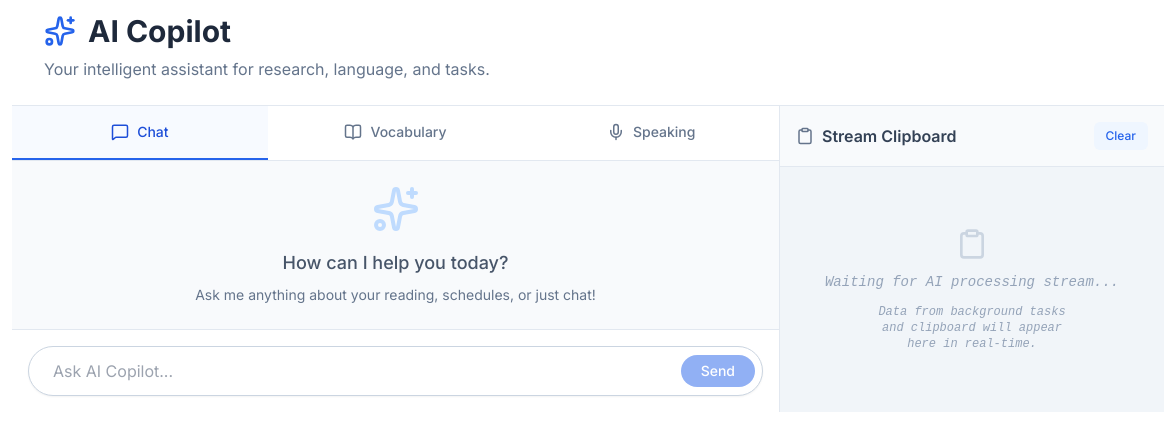
Test: CopilotPage › switches to the Vocabulary and Speaking placeholder tabs
Click the button "Vocabulary" at (396, 133), box [268, 106, 523, 160]
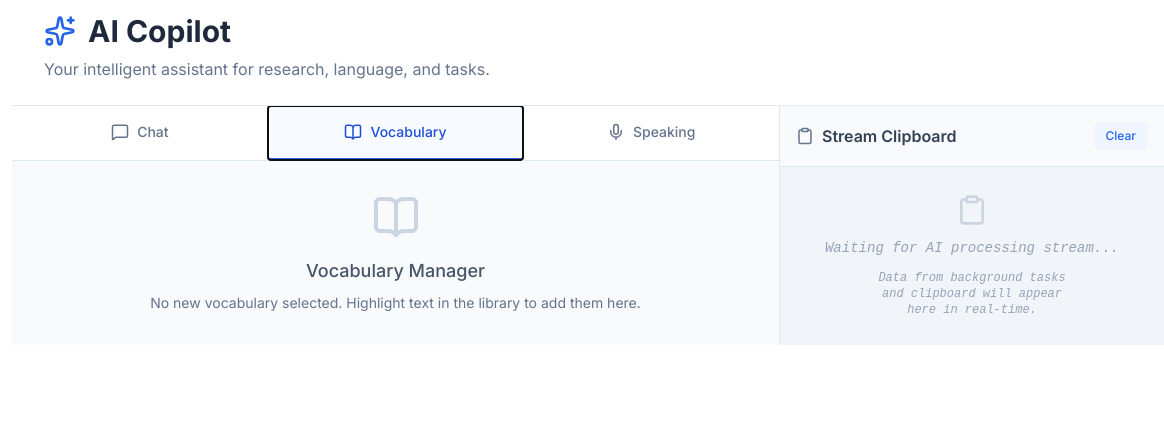
expect the text "Vocabulary Manager" is shown: met, box [306, 260, 485, 281]
Click the button "Speaking" at (651, 133), box [523, 106, 779, 160]
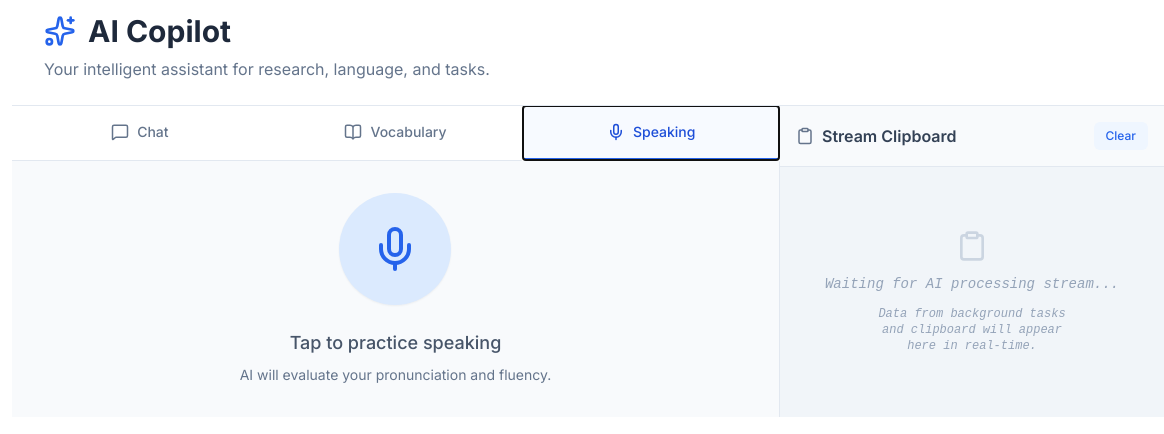
expect the text "Tap to practice speaking" is shown: met, box [290, 332, 501, 353]
